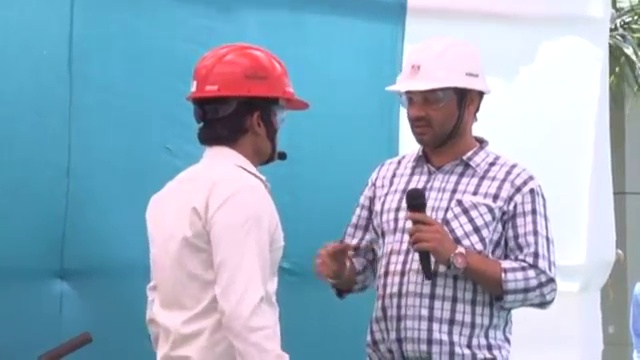helmet: (184, 40, 311, 114), (380, 30, 494, 99)
helmet_on: (182, 41, 313, 174), (376, 30, 495, 156)
person: (314, 31, 561, 360), (137, 41, 314, 360)
